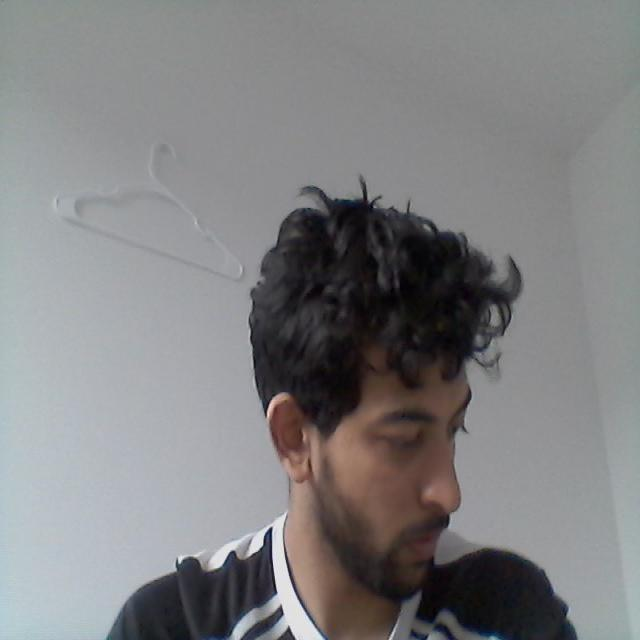nocap: (204, 155, 580, 465)
